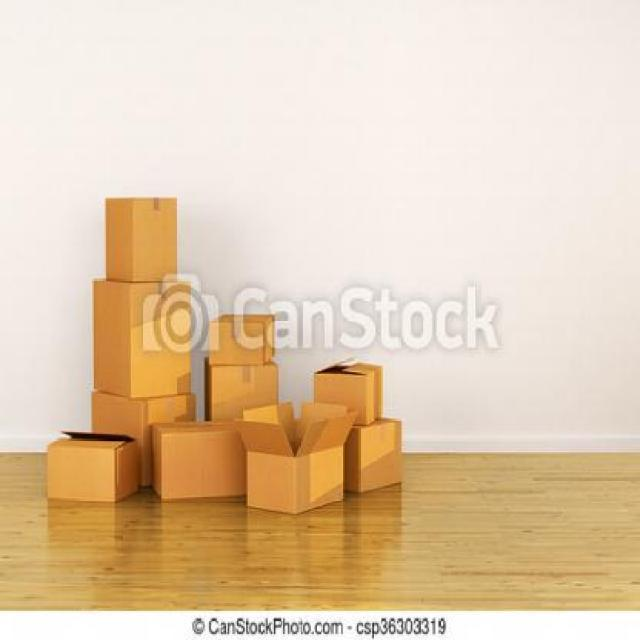box: (90, 274, 192, 404), (243, 405, 347, 516), (92, 389, 196, 487), (146, 419, 248, 498), (100, 191, 184, 283), (41, 428, 140, 504), (202, 356, 280, 426), (345, 419, 407, 494), (313, 362, 383, 422), (206, 314, 276, 364)
